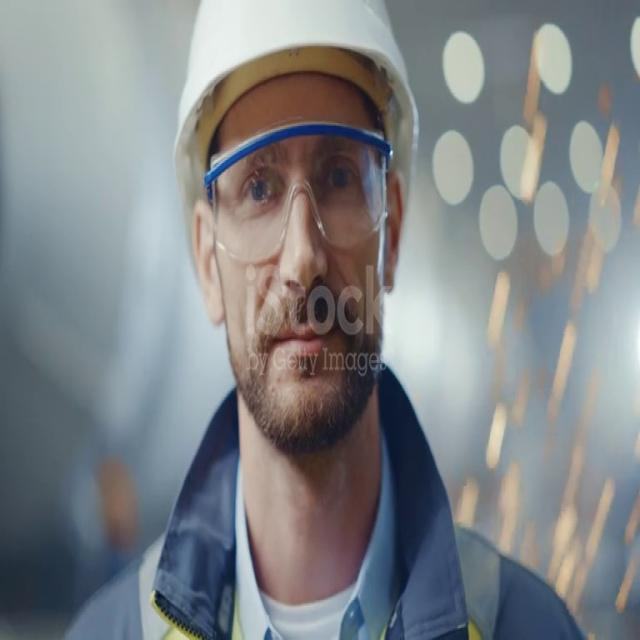capacete: (157, 4, 438, 313)
